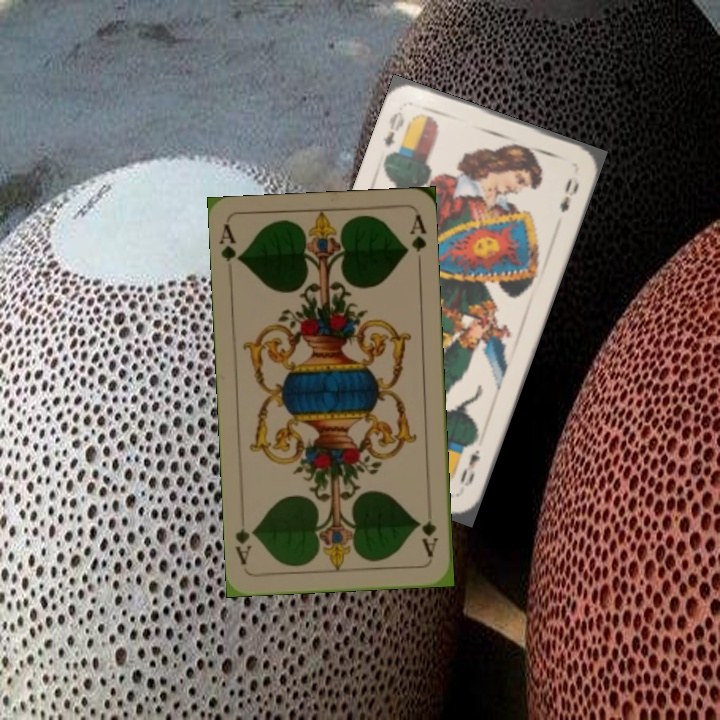EO: (455, 445, 483, 490), (379, 107, 408, 150)
GA: (416, 502, 441, 560), (216, 221, 244, 265)
